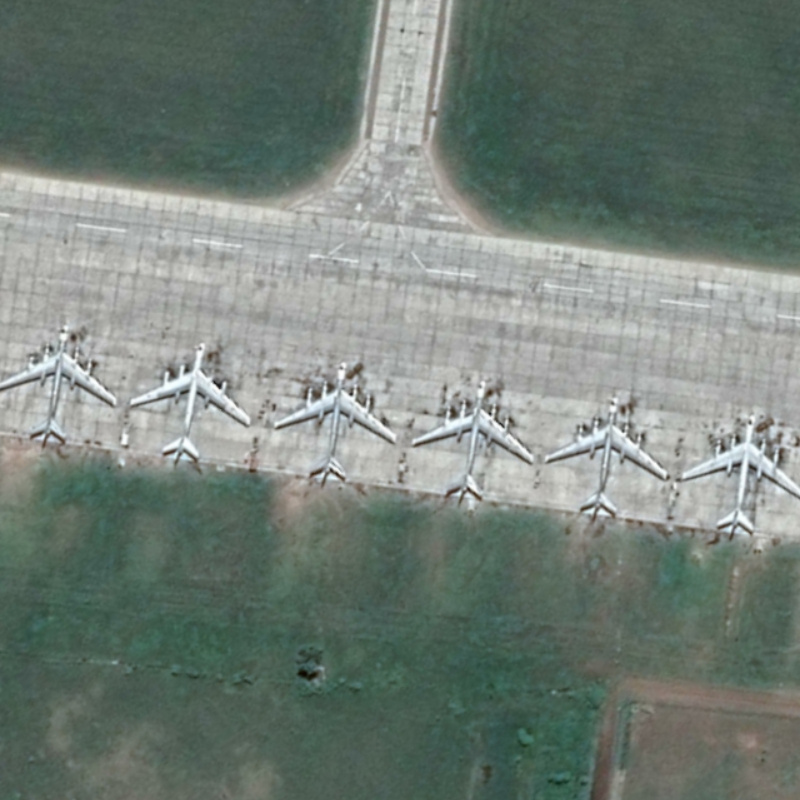A17: (270, 354, 402, 489), (409, 376, 539, 507), (539, 394, 672, 521), (126, 339, 256, 464), (675, 411, 800, 539), (2, 315, 120, 448)
